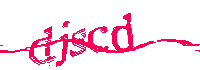c: (87, 21, 109, 56)
d: (29, 27, 55, 65), (111, 12, 135, 52)
j: (55, 21, 71, 68)
s: (69, 28, 86, 58)
